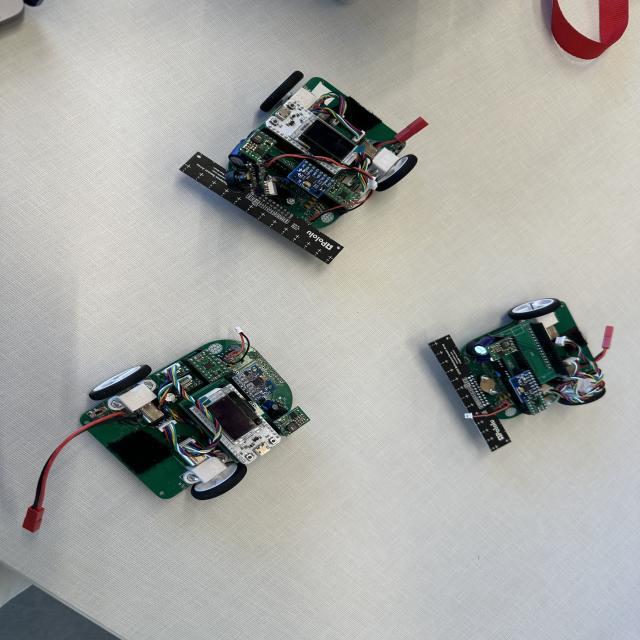robot: (22, 326, 310, 533), (168, 64, 437, 269), (411, 292, 622, 460)
